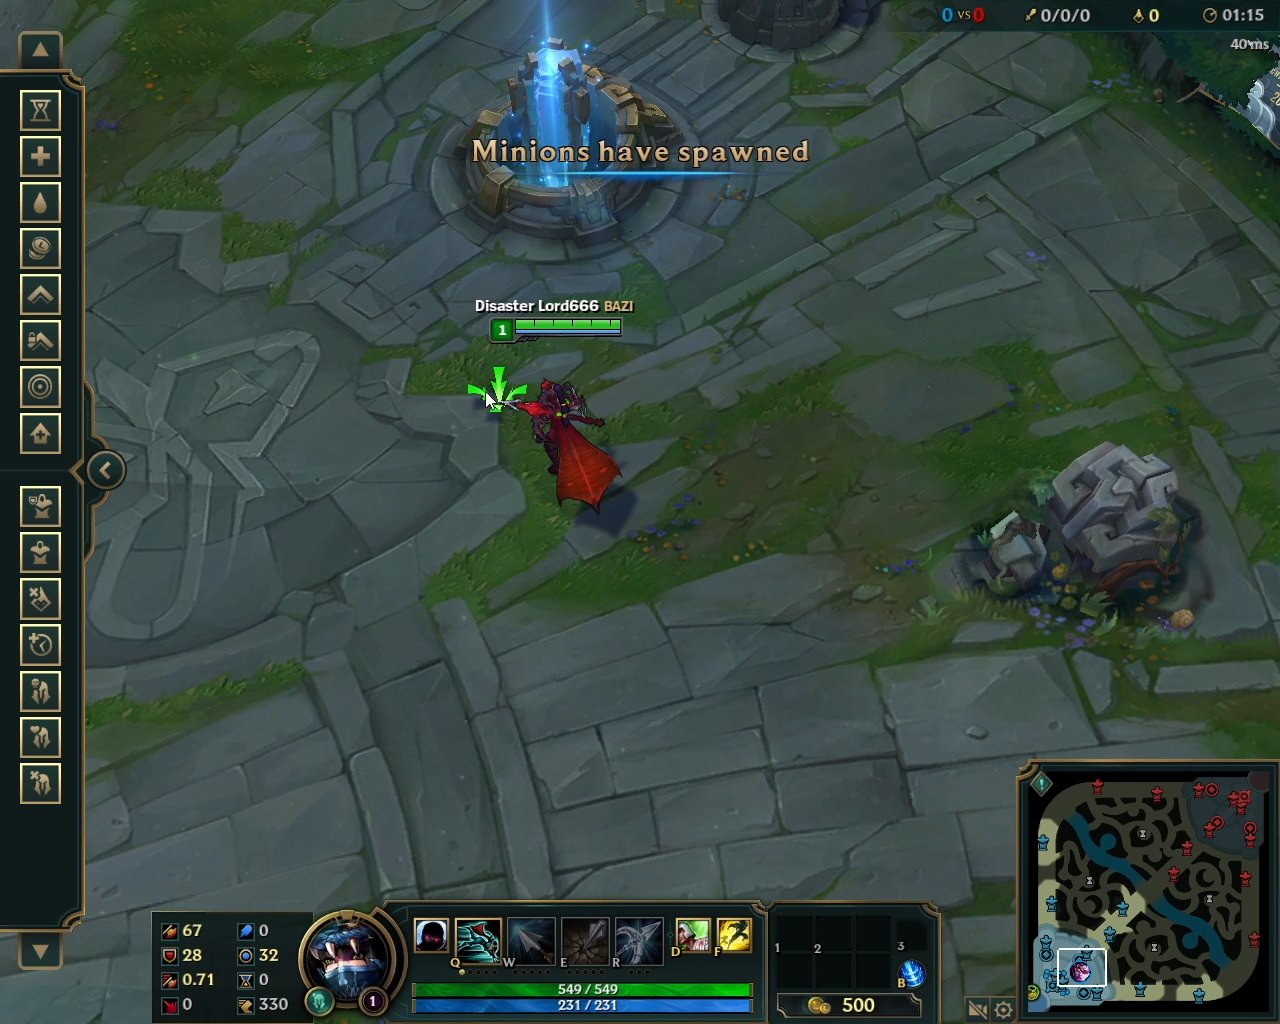Vayne: (487, 373, 627, 526)
